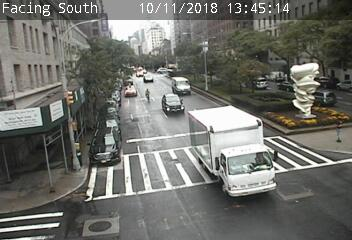car: (189, 107, 277, 197), (91, 127, 120, 165), (306, 90, 335, 106), (162, 93, 184, 114), (171, 77, 190, 95), (245, 78, 268, 89), (277, 81, 300, 92), (124, 85, 137, 98)
